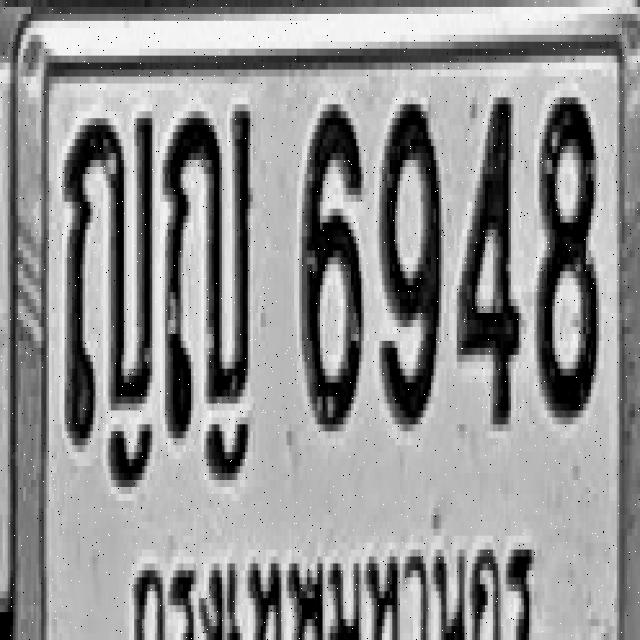22YorYing: (64, 108, 154, 442), (162, 101, 252, 435)
4: (456, 90, 518, 424)
6: (300, 101, 362, 428)
8: (536, 90, 598, 418)
9: (379, 98, 442, 424)
Bangkok: (126, 535, 544, 640)
